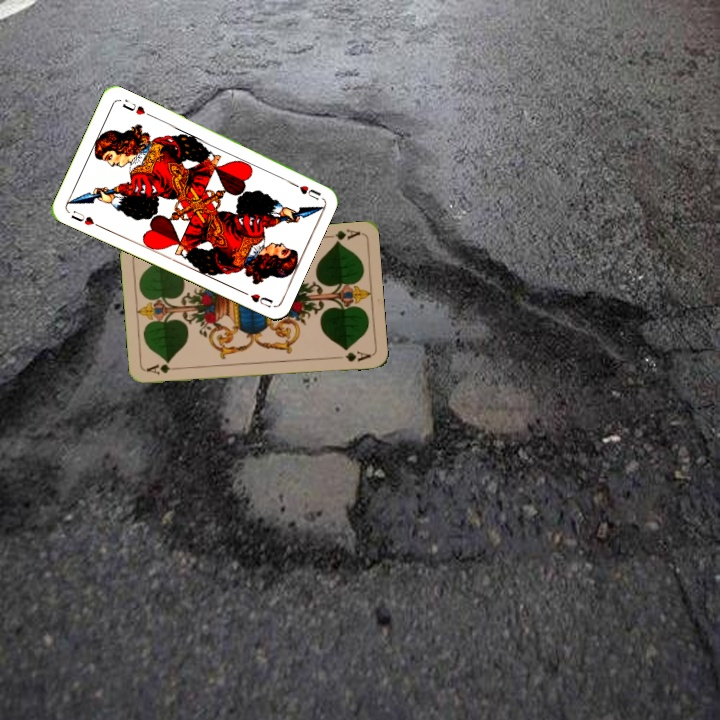GA: (322, 225, 363, 246), (143, 360, 184, 377)
HU: (286, 177, 323, 202), (67, 206, 103, 230)
